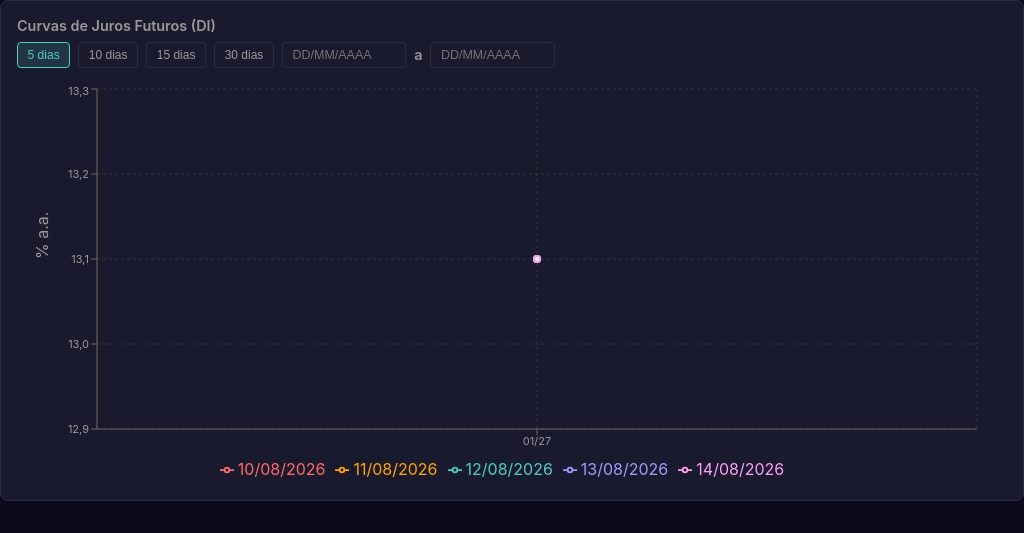
Test: YieldCurveChart custom ranges › rejects Data inicial = 31/04/2026 instead of treating it as a valid boundary
In the field named "Data inicial": (344, 55) [282,42,406,68], type "31/04/2026"
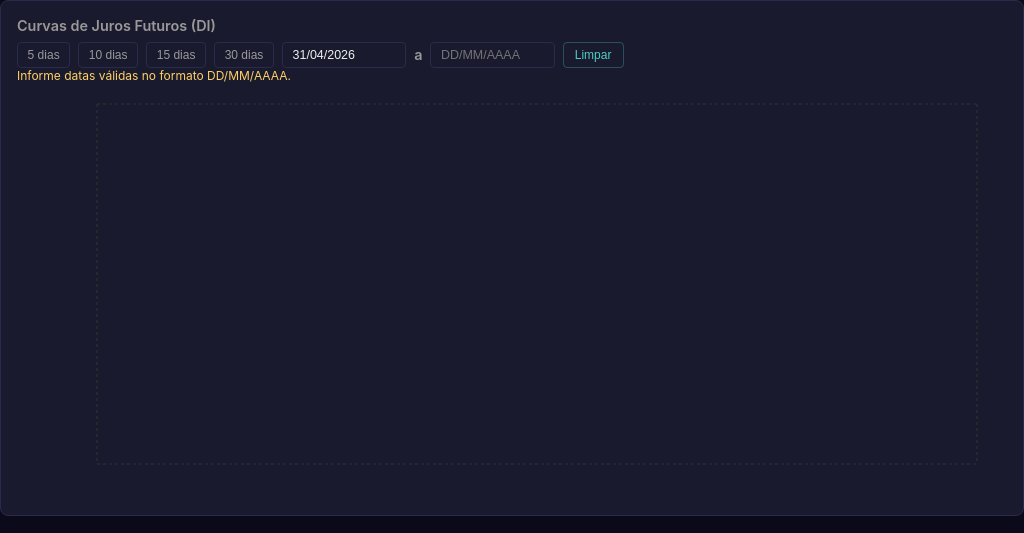
expect the message "Informe datas válidas no formato DD/MM/AAAA." is shown: met, box [17,68,291,83]
